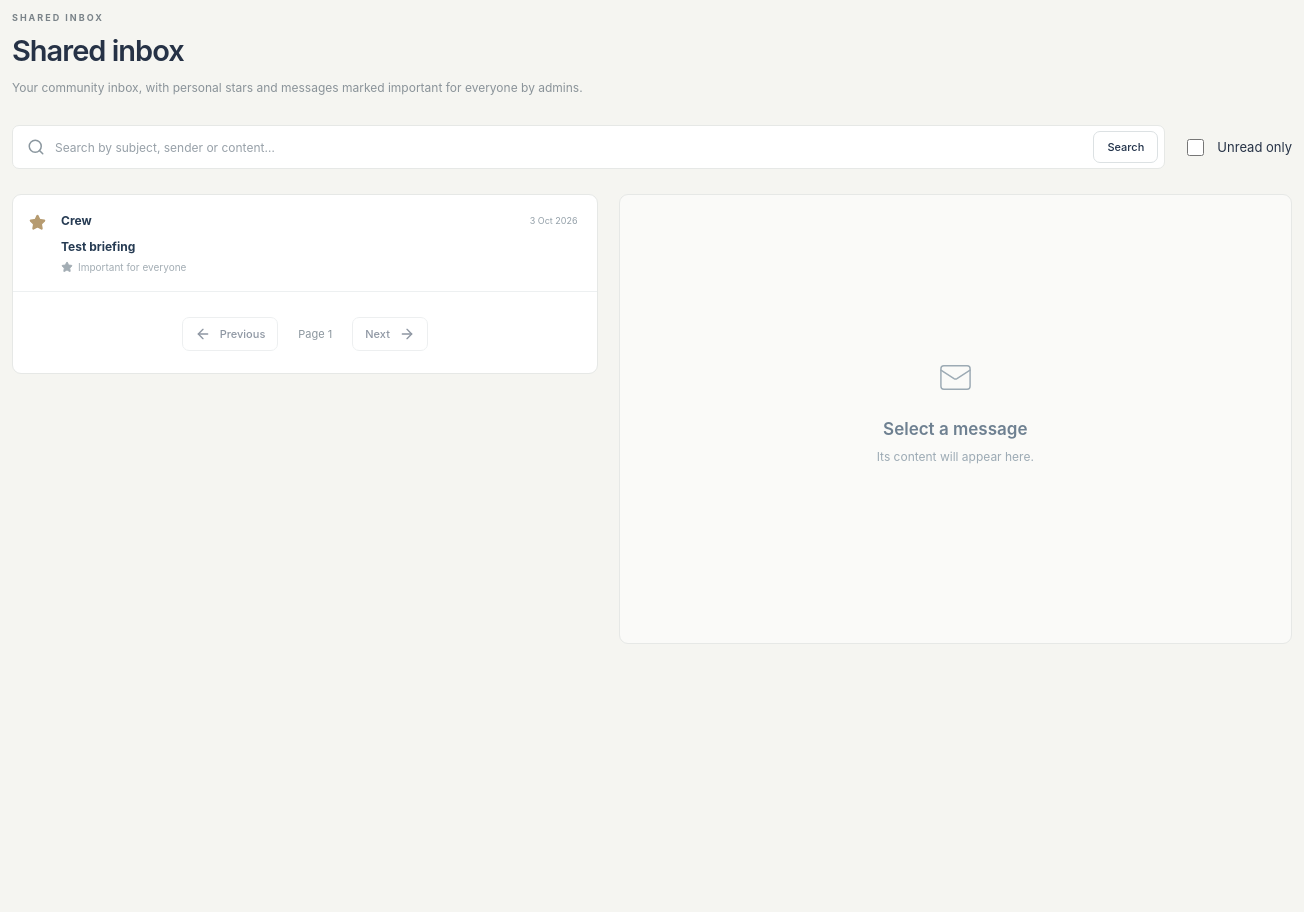
Test case: Mail read state › shows shared importance to members without exposing admin controls
Click the button "Crew 3 Oct 2026 Test briefing Important for everyone" at (76, 221), box [52,213,587,273]
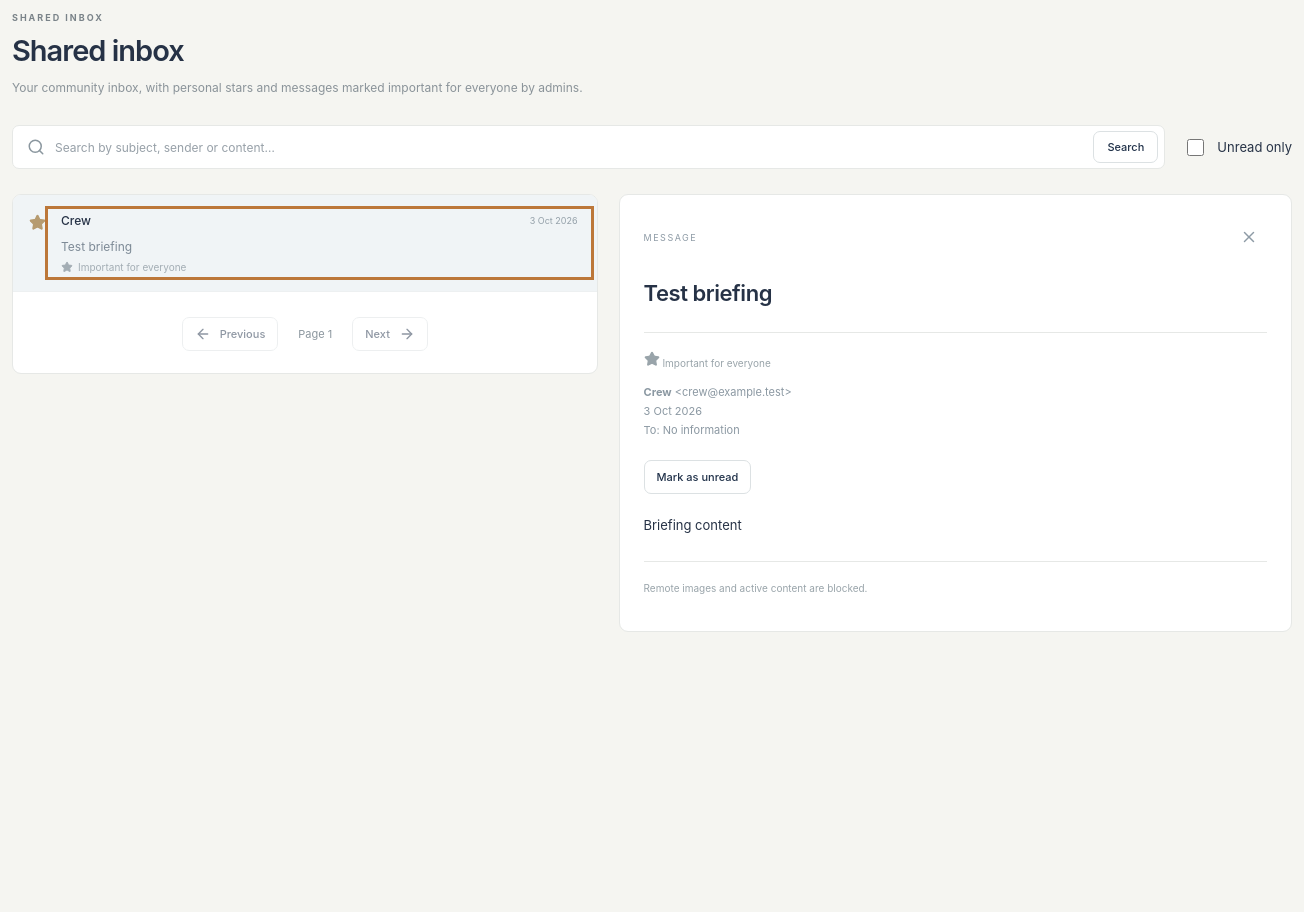
Check: the text "Important for everyone" is shown 2 times, box [61,261,186,273]; [644,332,1267,373]
Check: the text "Briefing content" is shown, box [644,517,742,533]
